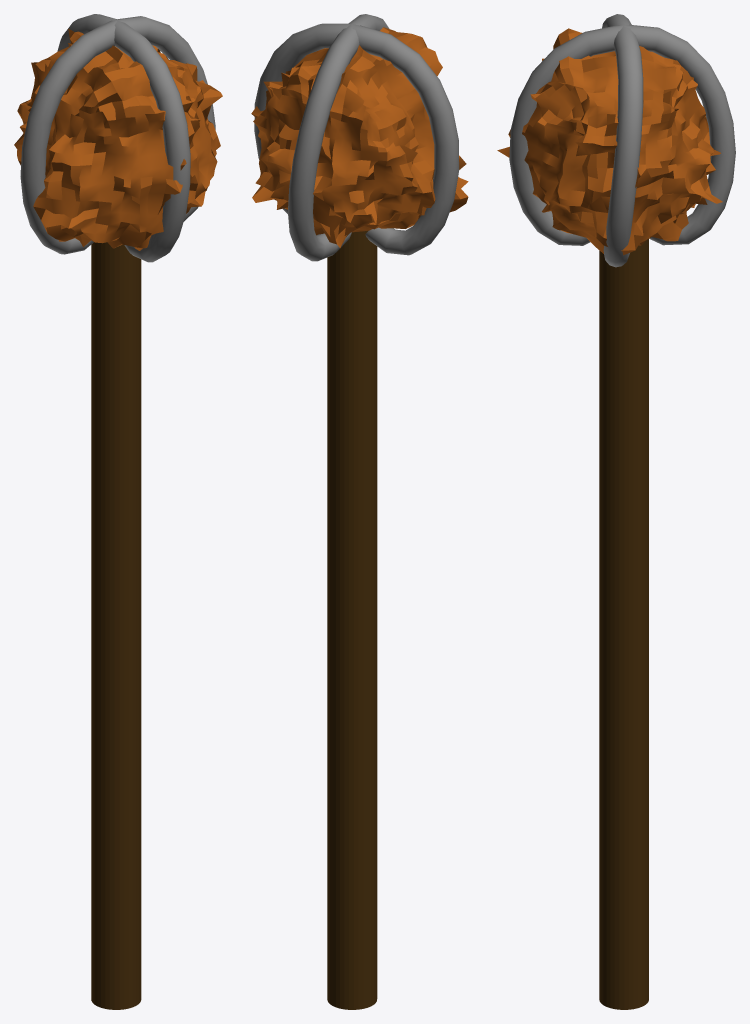
File: teleportationstaff.fbx
3 renders of one model, left to right at view 1: azimuth 30°, elevation 25°; view 2: azimuth 150°, elevation 25°; view 3: azimuth 270°, elevation 25°, orthographic.
Visible parts, largest first — view 1: Cylinder, rock, BezierCurve, BezierCurve.001; view 2: Cylinder, rock, BezierCurve, BezierCurve.001; view 3: Cylinder, rock, BezierCurve.001, BezierCurve.
Boxes of the visible parts, <box> form: Cylinder: <box>91,242,141,1009</box>; rock: <box>14,28,222,250</box>; BezierCurve: <box>20,16,215,254</box>; BezierCurve.001: <box>57,14,190,262</box>; Cylinder: <box>327,230,377,1009</box>; rock: <box>251,27,468,247</box>; BezierCurve: <box>254,23,459,255</box>; BezierCurve.001: <box>288,14,389,261</box>; Cylinder: <box>599,239,648,1009</box>; rock: <box>497,28,722,255</box>; BezierCurve.001: <box>509,24,735,245</box>; BezierCurve: <box>602,14,643,267</box>.
Bounding box in the file's own units: 90.13 × 428 × 95.04.
